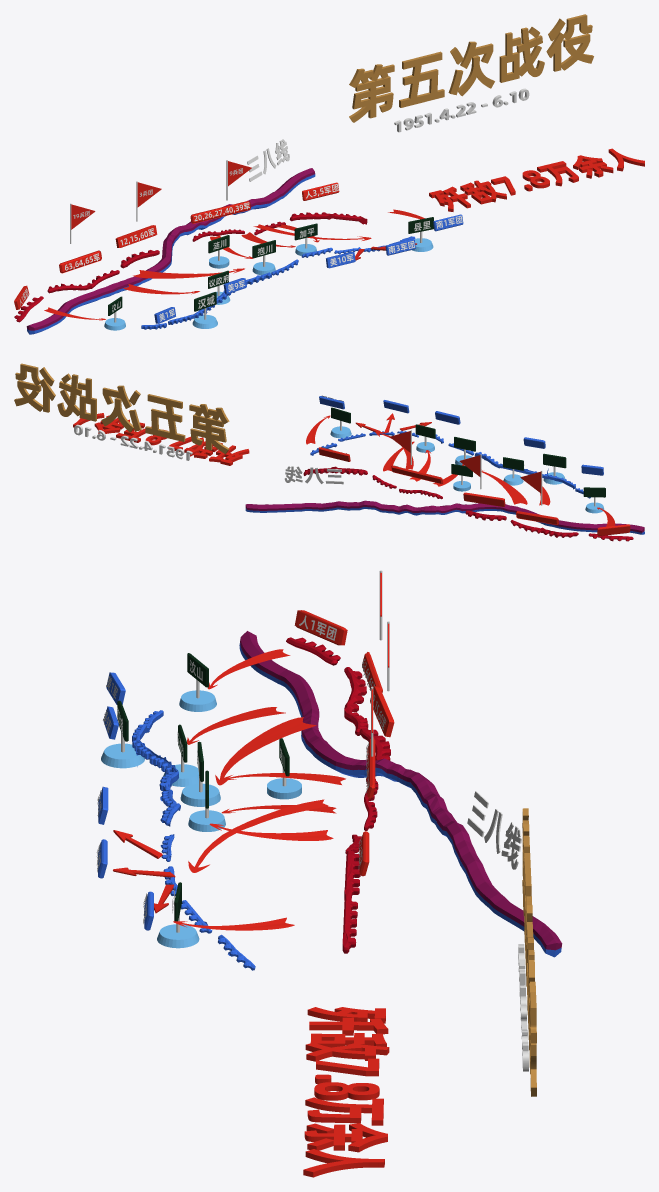
Rendered from 0-5-animate.glb.
The picture shows the model from 3 angles, top to bottom: view 1: azimuth 30°, elevation 25°; view 2: azimuth 150°, elevation 25°; view 3: azimuth 270°, elevation 25°; orthographic projection. The views are drawn at different scales.
Parts seen in each view (by area): view 1: 文本.031, 文本.033, 38line3, 文本.032, 柱体.022, 11.005, 柱体.028, 柱体.025, 文本.030, 柱体.023, 柱体.026, tm.003 (+4 smaller); view 2: 文本.031, 38line3, 文本.033, 文本.032, 文本.030, 2.015, 柱体.028, 柱体.022, 柱体.024, 柱体.027, 柱体.026, 柱体.023 (+12 smaller); view 3: 文本.033, 38line3, 文本.031, 2.009, 文本.030, tm.003, 柱体.024, 柱体.022, 柱体.028, 贝塞尔曲线.022, 1.001, 2.015 (+4 smaller).
Part boxes in pixels (x1=…): 文本.031: x1=349, y1=14, x2=593, y2=122; 文本.033: x1=429, y1=148, x2=644, y2=211; 38line3: x1=26, y1=168, x2=315, y2=334; 文本.032: x1=394, y1=88, x2=529, y2=132; 柱体.022: x1=192, y1=292, x2=217, y2=328; 11.005: x1=190, y1=201, x2=250, y2=223; 柱体.028: x1=408, y1=217, x2=433, y2=251; 柱体.025: x1=252, y1=240, x2=275, y2=275; 文本.030: x1=247, y1=139, x2=289, y2=181; 柱体.023: x1=208, y1=235, x2=229, y2=268; 柱体.026: x1=294, y1=223, x2=317, y2=256; tm.003: x1=133, y1=268, x2=244, y2=278; 文本.031: x1=14, y1=363, x2=229, y2=453; 38line3: x1=245, y1=500, x2=644, y2=534; 文本.033: x1=73, y1=410, x2=249, y2=465; 文本.032: x1=74, y1=424, x2=192, y2=460; 文本.030: x1=284, y1=466, x2=343, y2=484; 2.015: x1=474, y1=452, x2=575, y2=489; 柱体.028: x1=330, y1=407, x2=351, y2=438; 柱体.022: x1=543, y1=453, x2=566, y2=484; 柱体.024: x1=583, y1=487, x2=605, y2=513; 柱体.027: x1=503, y1=457, x2=524, y2=485; 柱体.026: x1=415, y1=424, x2=435, y2=452; 柱体.023: x1=451, y1=464, x2=472, y2=491; 文本.033: x1=303, y1=1007, x2=389, y2=1177; 38line3: x1=239, y1=631, x2=562, y2=957; 文本.031: x1=522, y1=808, x2=536, y2=1096; 2.009: x1=342, y1=850, x2=360, y2=953; 文本.030: x1=467, y1=791, x2=521, y2=869; tm.003: x1=215, y1=717, x2=316, y2=785; 柱体.024: x1=179, y1=653, x2=216, y2=711; 柱体.022: x1=101, y1=700, x2=144, y2=768; 柱体.028: x1=157, y1=882, x2=199, y2=948; 贝塞尔曲线.022: x1=188, y1=799, x2=328, y2=872; 1.001: x1=294, y1=610, x2=347, y2=645; 2.015: x1=132, y1=724, x2=178, y2=790.
Size of the model in its own units: 52.5 by 8.26 by 18.96.
